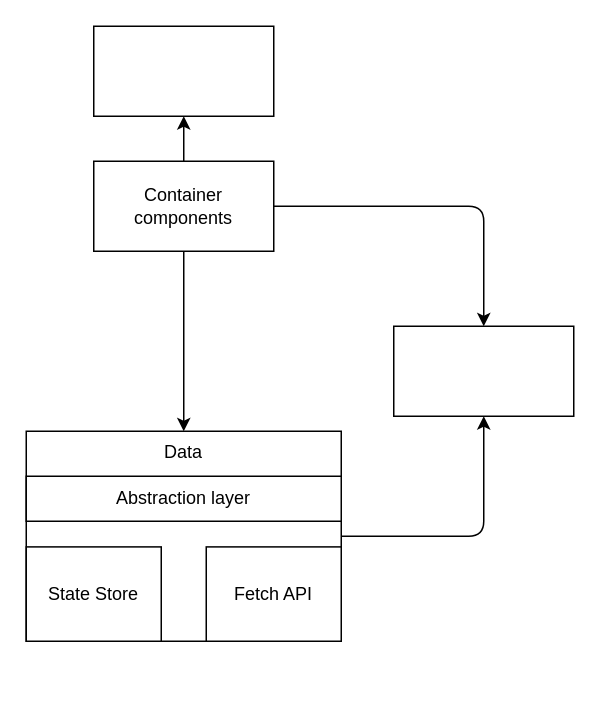
Some shapes in this 600 by 713 pixel diagram are drawn without their labels. The shapes that lost their labels are listed below. From the top down, each one's centre as x and y in pixels, then its label:
the point at 183,70: Presentational components
the point at 483,370: Domain
